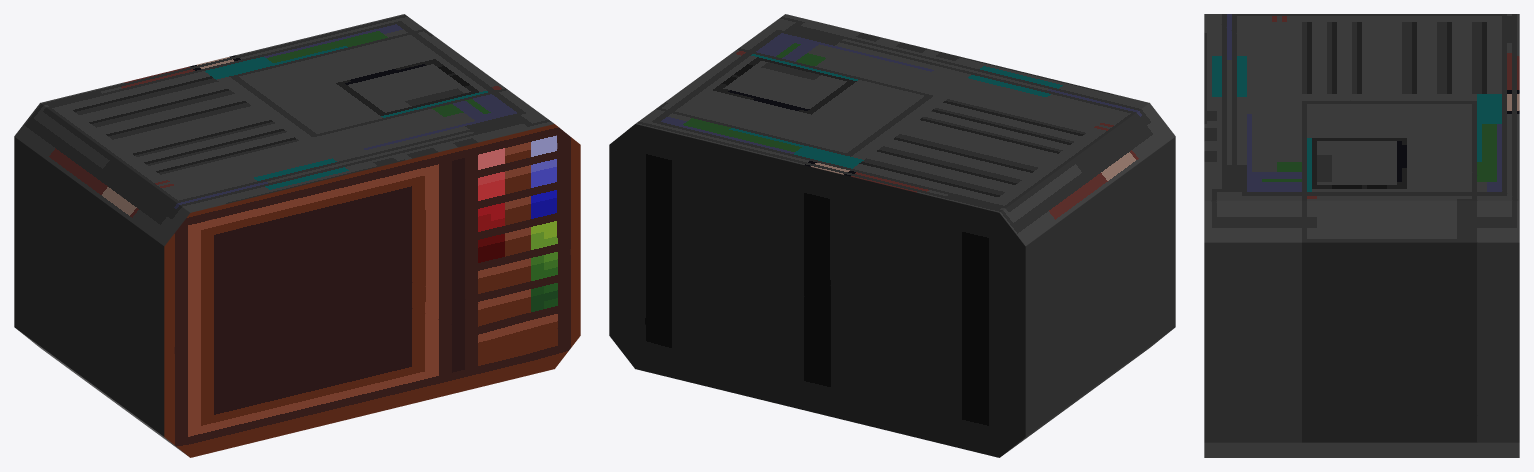
3 renders of one model, left to right at view 1: azimuth 30°, elevation 25°; view 2: azimuth 150°, elevation 25°; view 3: azimuth 270°, elevation 25°, orthographic. The views are drawn at different scales.
Visible parts, largest first — view 1: ss3d_02_oven; view 2: ss3d_02_oven; view 3: ss3d_02_oven.
Boxes of the visible parts, bbox=[...] form: ss3d_02_oven: bbox=[14, 14, 580, 457]; ss3d_02_oven: bbox=[609, 14, 1175, 457]; ss3d_02_oven: bbox=[1204, 14, 1519, 457].
Bounding box in the file's own units: 0.3375 × 0.1898 × 0.2109.
Materials: 1 (1 with a texture image).
